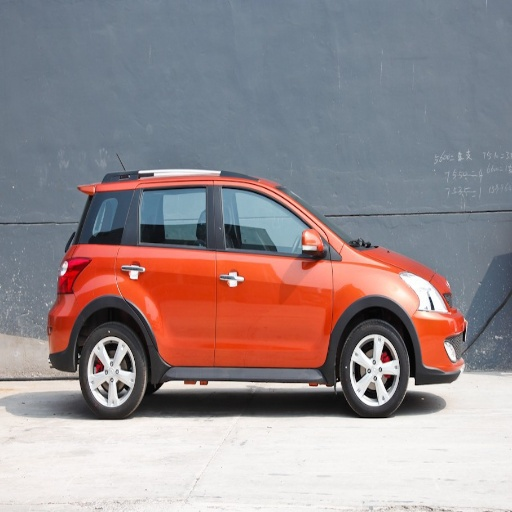back_right_door: (118, 179, 214, 363)
front_right_door: (215, 181, 332, 364)
